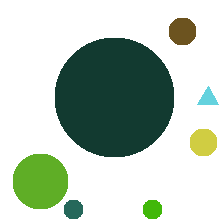circle: (55, 38, 173, 156), (13, 154, 67, 208), (169, 18, 195, 44), (190, 129, 216, 155), (64, 200, 82, 218), (143, 200, 161, 218)
triangle: (197, 86, 218, 104)
